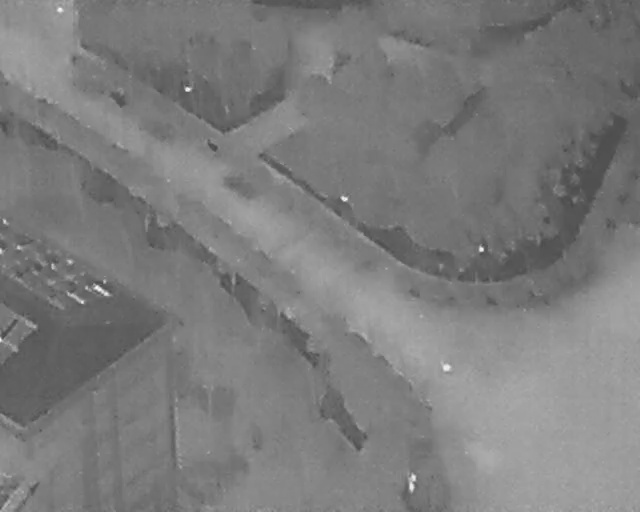Person: (406, 470, 418, 495)
